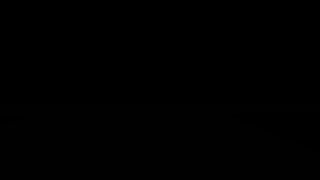turn_left: (237, 24, 268, 55)
